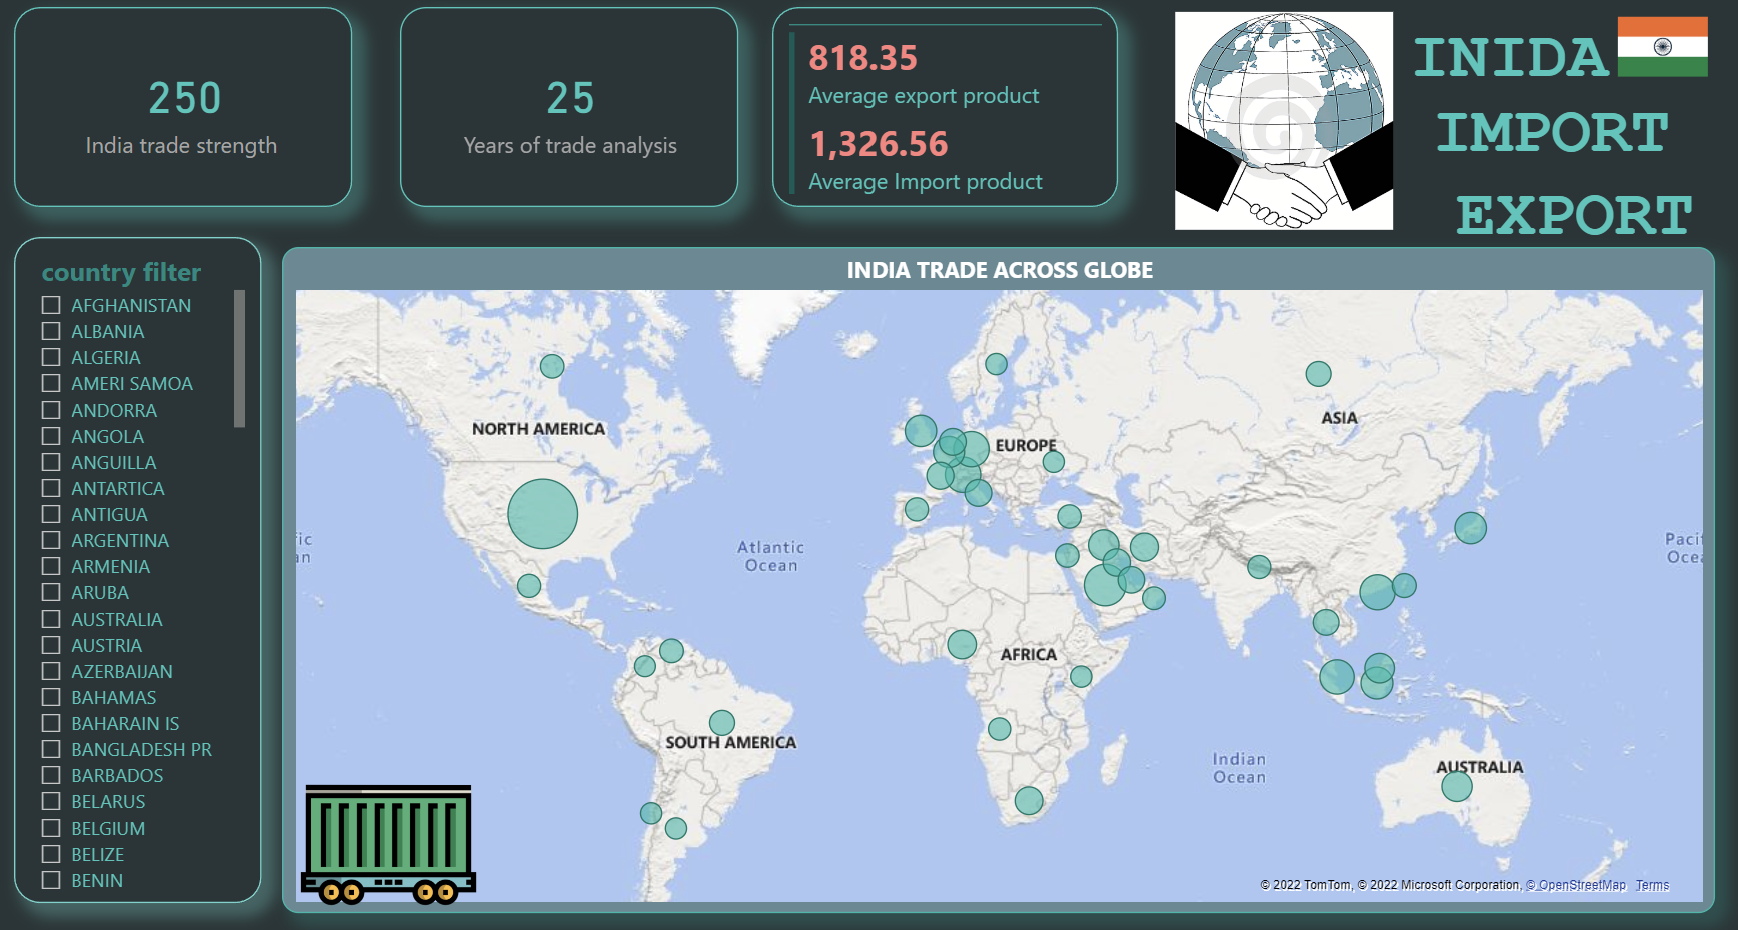

What the dashboard file says about the page in this screenshot:
{"tool":"tableau","page":{"name":"Dashboard 1","canvas":[1000,800],"ordinal":0},"visuals":[{"type":"worksheet","title":"Sheet 1 (2)","mark":"Automatic","box":[8,8,455,507]},{"type":"worksheet","title":"Sheet 1","mark":"Automatic","box":[463,8,369,507]},{"type":"legend","title":"Sheet 1","param":"[federated.0rqzujb0sndwn41c7wan00p11w65].[none:Health Unit District:nk]","box":[832,8,160,507]},{"type":"worksheet","title":"Sheet 3","mark":"Multipolygon","box":[8,515,621,277]},{"type":"legend","title":"Sheet 1 (2)","param":"[federated.0rqzujb0sndwn41c7wan00p11w65].[sum:1st Dosage Covishield to HCW:qk]","box":[629,515,229,154]},{"type":"legend","title":"Sheet 3","param":"[federated.0rqzujb0sndwn41c7wan00p11w65].[sum:1st Dosage Covishield to HCW:qk]","box":[858,515,134,277]},{"type":"legend","title":"Sheet 1","param":"[federated.0rqzujb0sndwn41c7wan00p11w65].[sum:2nd Dosage Covishield to HCW:qk]","box":[629,669,229,123]}]}

Visuals, with their boxes on the page's 1000x800 design canvas (x1, y1, x2, y2). These are canvas units, not pixel positions in the 1738x930 screenshot, which may show the page scaled, cropped or inside an application window:
"Sheet 1 (2)" worksheet: locate(8, 8, 463, 515)
"Sheet 1" worksheet: locate(463, 8, 832, 515)
"Sheet 1" legend: locate(832, 8, 992, 515)
"Sheet 3" worksheet (Multipolygon marks): locate(8, 515, 629, 792)
"Sheet 1 (2)" legend: locate(629, 515, 858, 669)
"Sheet 3" legend: locate(858, 515, 992, 792)
"Sheet 1" legend: locate(629, 669, 858, 792)
